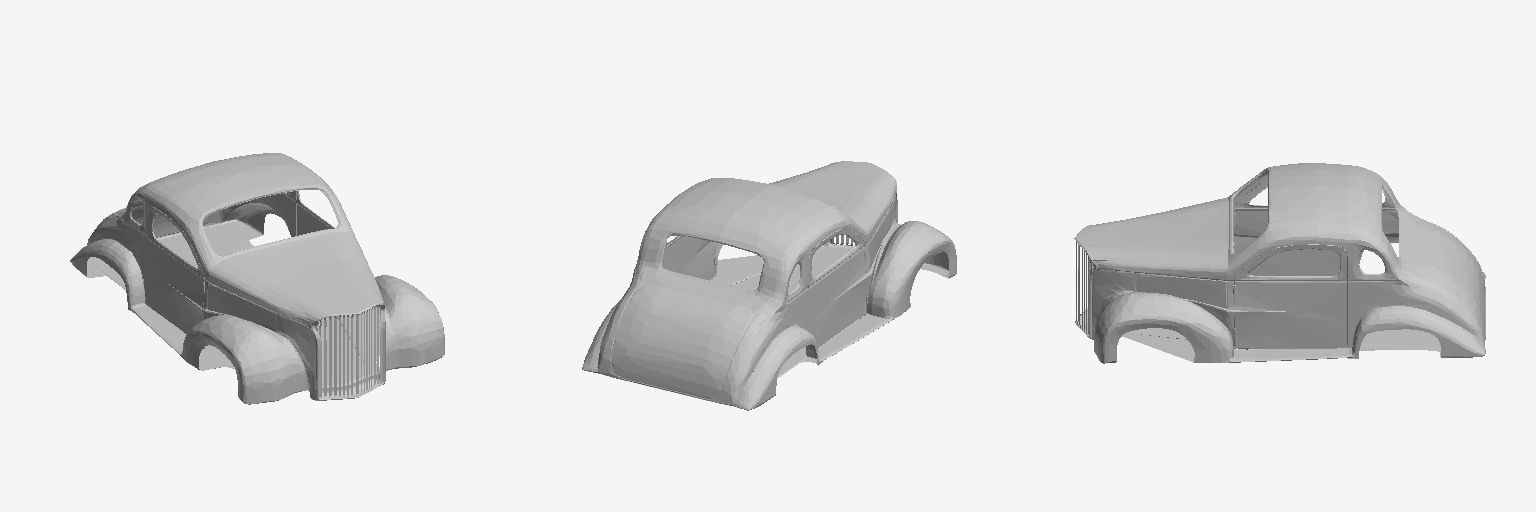
Rendered from car2.obj.
The picture shows the model from 3 angles: view 1: azimuth 30°, elevation 25°; view 2: azimuth 150°, elevation 25°; view 3: azimuth 270°, elevation 25°; orthographic projection.
Visible parts, largest first — view 1: car_Cube.001; view 2: car_Cube.001; view 3: car_Cube.001.
Part boxes in pixels (x1,y1,x2,y2): car_Cube.001: (70, 153, 444, 404); car_Cube.001: (582, 161, 956, 410); car_Cube.001: (1074, 163, 1485, 363).
Size of the model in its own units: 7.13 by 4.73 by 12.58.